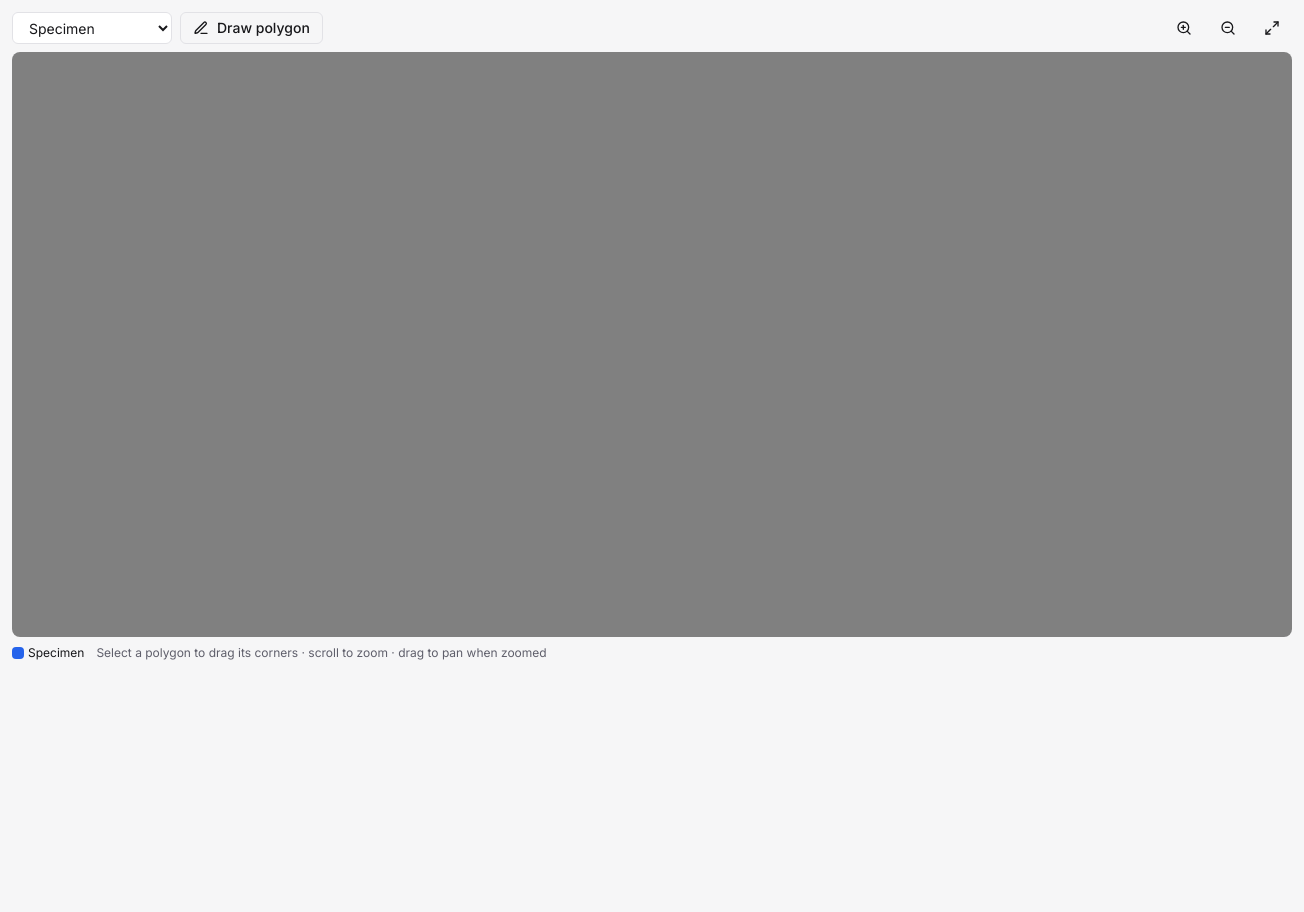
RegionEditor › enters and cancels drawing mode
The image size is (1304, 912).
Click the button "Draw polygon": (251, 28) [180, 12, 323, 44]
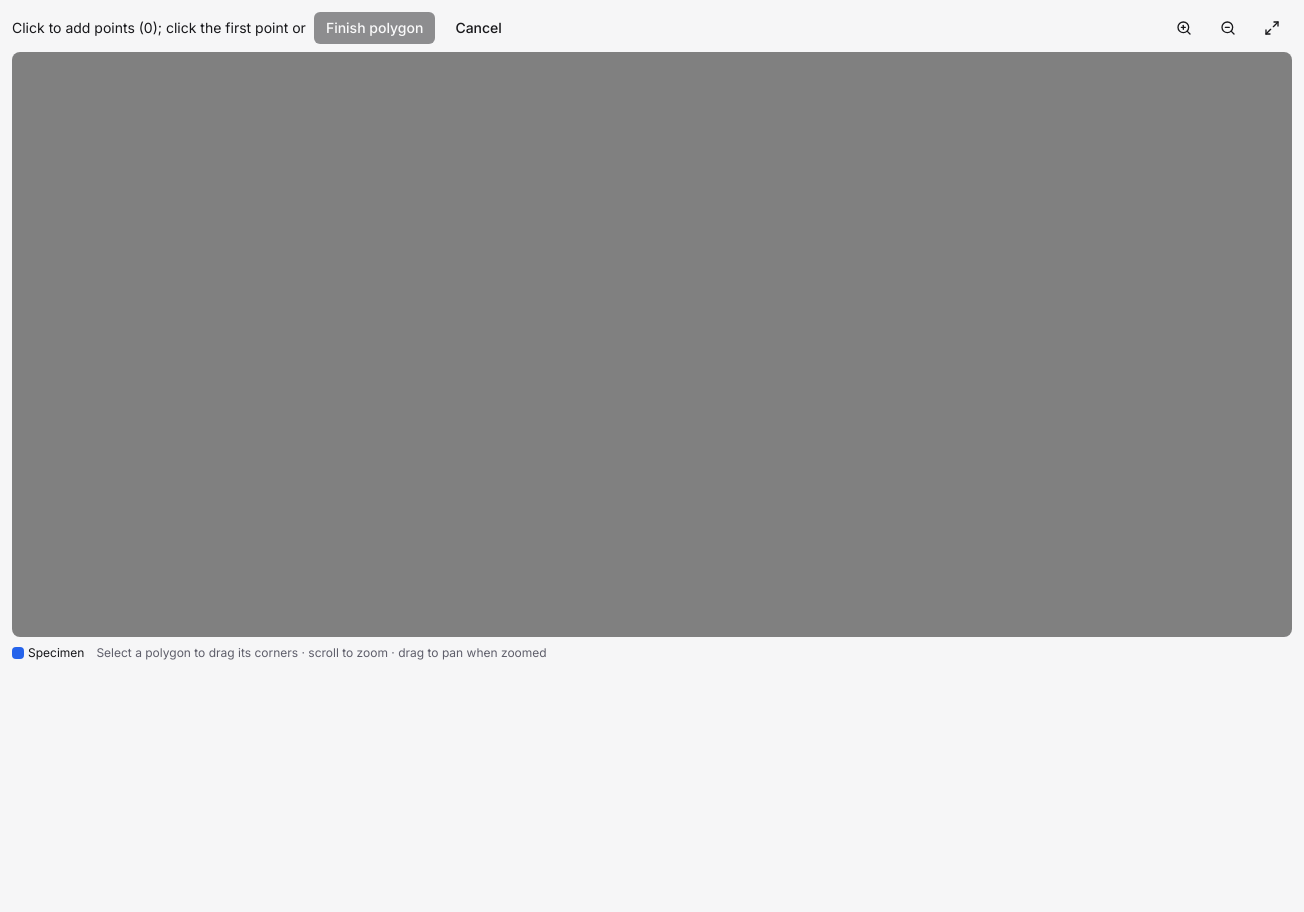
Check: the button "Finish polygon" is disabled, box [314, 12, 435, 44]
Click the button "Cancel": (479, 28) [443, 12, 514, 44]
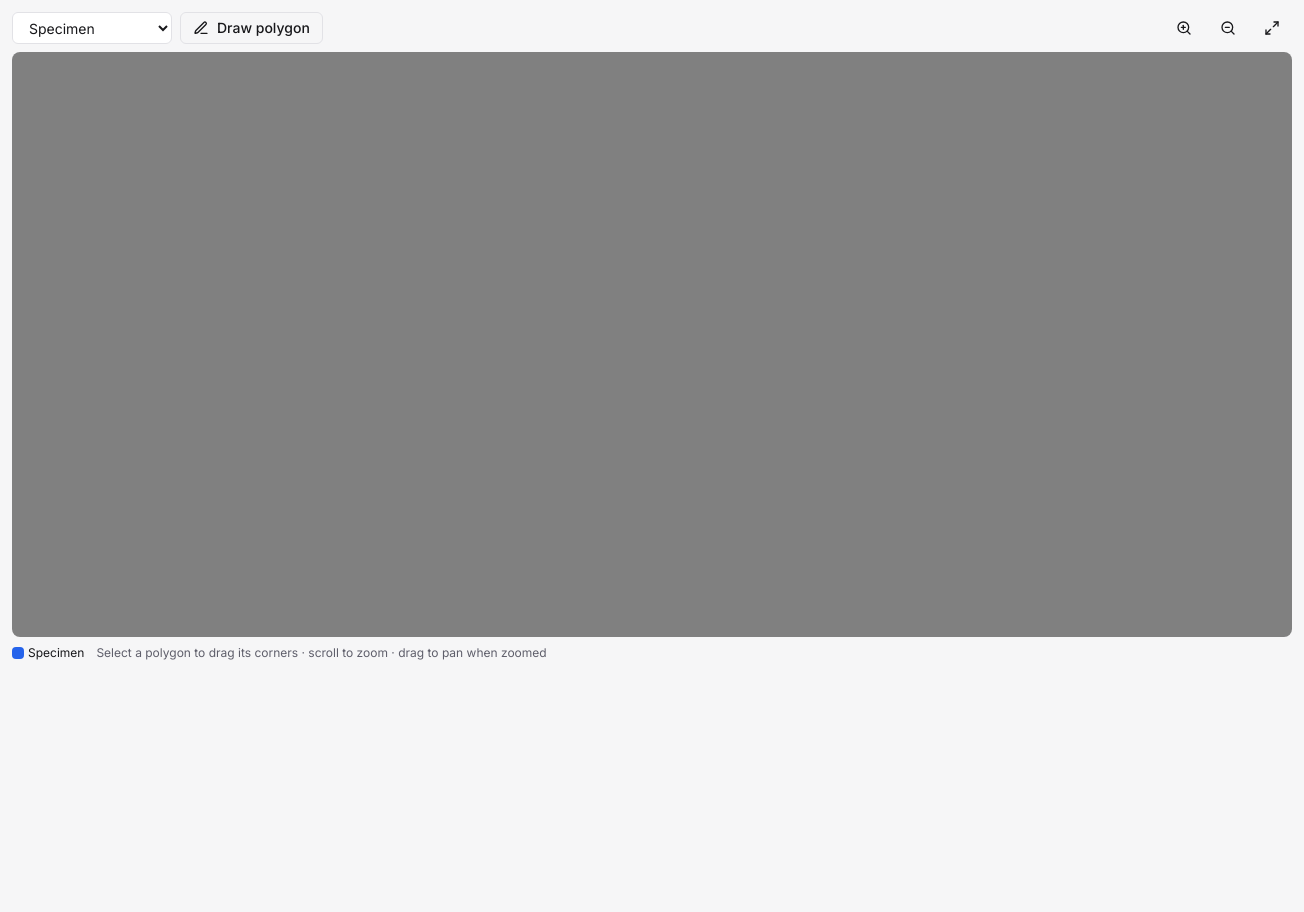
Check: the button "Draw polygon" is shown, box [180, 12, 323, 44]
